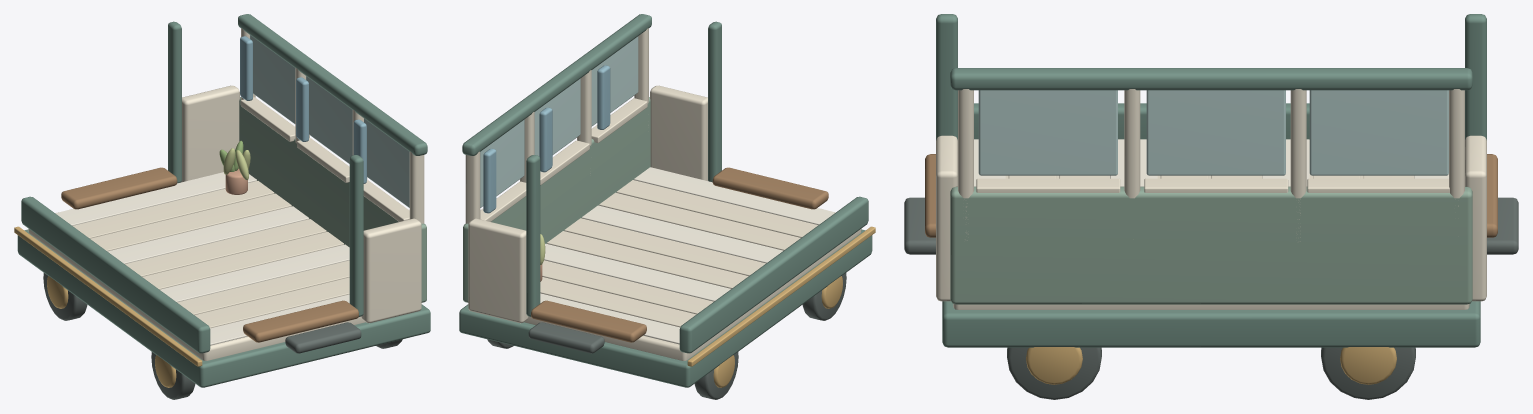
File: Carriage.fbx
3 renders of one model, left to right at view 1: azimuth 30°, elevation 25°; view 2: azimuth 150°, elevation 25°; view 3: azimuth 270°, elevation 25°, orthographic. The views are drawn at different scales.
Parts seen in each view (by area): view 1: Oat, Seaweed, Linen, Enamel, Glass, Wood, Iron, Brass, Blue, LeafLight, Clay; view 2: Oat, Seaweed, Linen, Enamel, Glass, Wood, Iron, Brass, Blue; view 3: Enamel, Seaweed, Glass, Oat, Iron, Brass, Wood, Linen.
Boxes of the visible parts, x1,y1,x2,y2 form: Oat: (28, 28, 424, 360); Seaweed: (17, 14, 430, 387); Linen: (55, 172, 349, 345); Enamel: (239, 97, 426, 302); Glass: (250, 35, 409, 207); Wood: (61, 167, 358, 342); Iron: (43, 273, 402, 399); Brass: (14, 226, 202, 387); Blue: (240, 36, 366, 183); LeafLight: (223, 148, 250, 180); Clay: (225, 168, 247, 194); Oat: (465, 28, 861, 360); Seaweed: (459, 14, 872, 387); Linen: (540, 167, 835, 344); Enamel: (463, 97, 650, 302); Glass: (480, 36, 638, 207); Wood: (531, 167, 828, 342); Iron: (487, 273, 846, 399); Brass: (687, 226, 875, 387); Blue: (483, 65, 610, 213); Enamel: (950, 186, 1472, 304); Seaweed: (936, 14, 1486, 347); Glass: (978, 90, 1448, 175); Oat: (936, 89, 1486, 309); Iron: (904, 197, 1518, 399); Brass: (1026, 347, 1396, 384); Wood: (925, 154, 1497, 237); Linen: (974, 139, 1448, 186).
Size of the model in its own units: 248 by 235 by 388.
